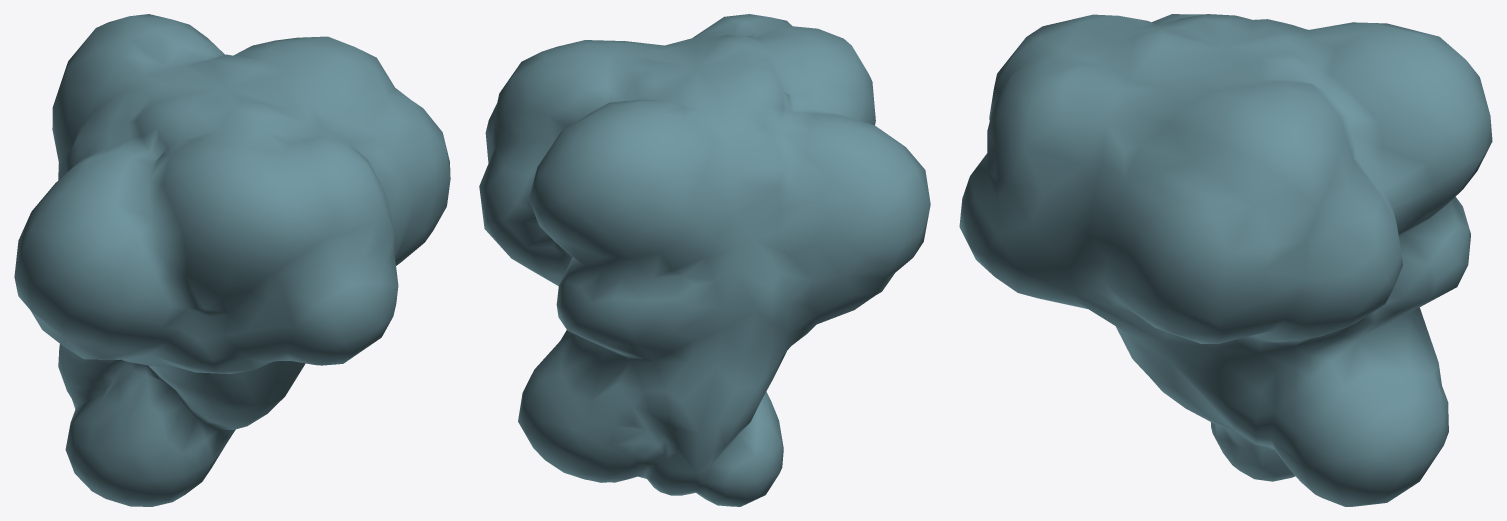
Rendered from env_primalcave_rocks_smallblob03.fbx.
The picture shows the model from 3 angles, left to right: view 1: azimuth 30°, elevation 25°; view 2: azimuth 150°, elevation 25°; view 3: azimuth 270°, elevation 25°; orthographic projection. The views are drawn at different scales.
Visible parts, largest first — view 1: env_excavation_underground_sticky_blockout_smallblob03; view 2: env_excavation_underground_sticky_blockout_smallblob03; view 3: env_excavation_underground_sticky_blockout_smallblob03.
Part boxes in pixels (x1,y1,x2,y2): env_excavation_underground_sticky_blockout_smallblob03: [14, 14, 450, 506]; env_excavation_underground_sticky_blockout_smallblob03: [479, 14, 930, 506]; env_excavation_underground_sticky_blockout_smallblob03: [959, 14, 1492, 506].
Bounding box in the file's own units: 9.72 × 9.29 × 9.6.
